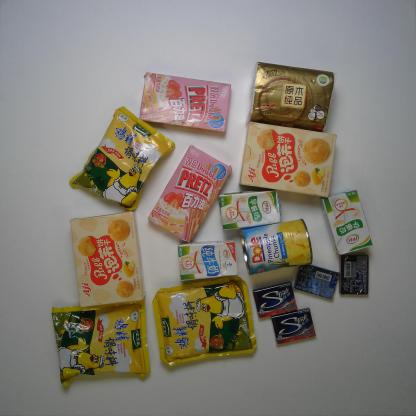Canned Food: (240, 218, 314, 275)
Dessert: (148, 144, 232, 243), (239, 121, 337, 200), (69, 210, 147, 309), (139, 72, 233, 134)
Gum: (270, 308, 317, 348), (251, 282, 298, 318), (293, 264, 340, 300), (338, 254, 370, 295)
Milk: (320, 190, 373, 256), (177, 239, 239, 282), (218, 190, 282, 231)
Seasoner: (68, 106, 175, 211), (152, 276, 258, 366), (51, 297, 151, 388)
Tissue: (246, 62, 336, 132)
